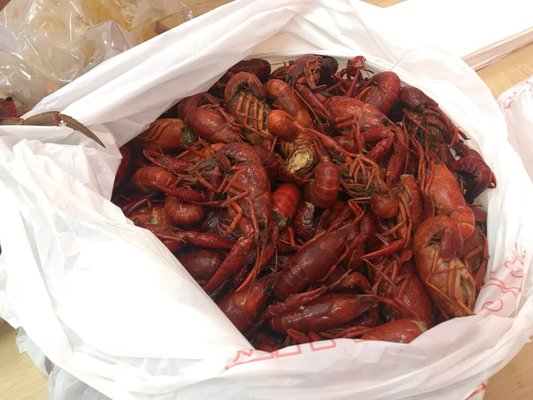curry: (1, 0, 533, 400)
